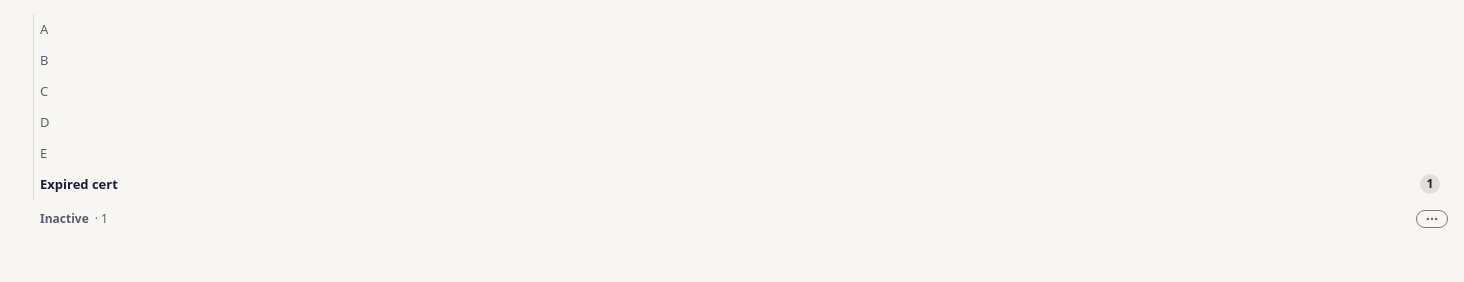
ThreadList › Inactive › keeps a thread on its side while the list is held, and the open one where it was opened
The width and height of the screenshot is (1464, 282).
Hover over the element showing "A B C D E Expired cert 1 Inactive · 1" at (732, 124), box [12,12,1452,235]
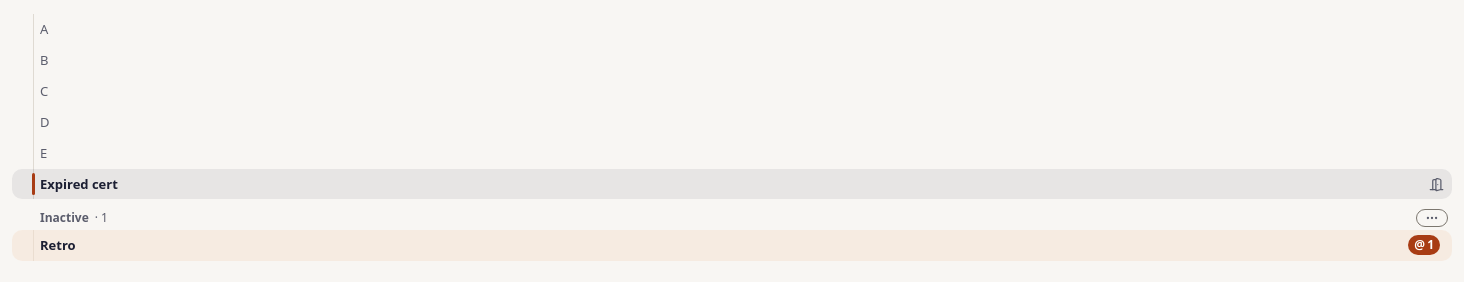
Move the pointer off the element showing "A B C D E Expired cert Inactive · 1 Retro @ 1"
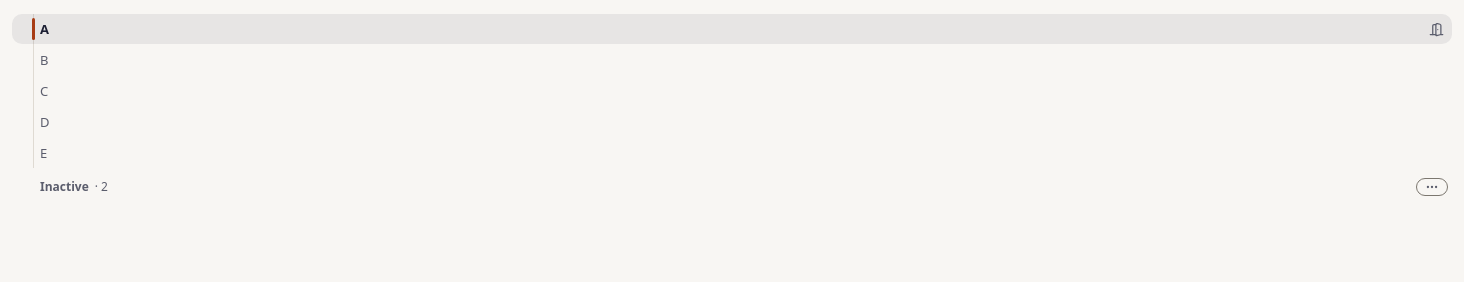
Now the button with test id "inactive-threads" shows "2", box [40,177,112,197]
